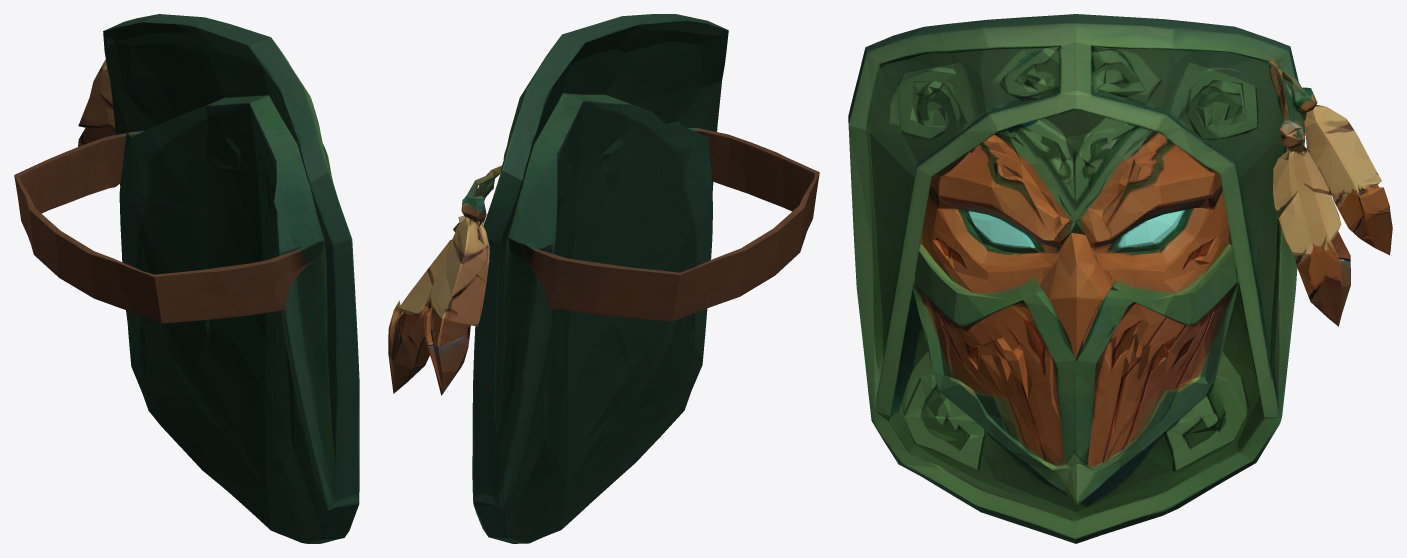
The model's file is Mask_Shooter.glb.
3 views of the same model, side by side, from view 1: azimuth 30°, elevation 25°; view 2: azimuth 150°, elevation 25°; view 3: azimuth 270°, elevation 25° (orthographic). The views are drawn at different scales.
Parts seen in each view (by area): view 1: tripo_node_1df13e3c-3604-43db-bb80-7fb626b5b87b; view 2: tripo_node_1df13e3c-3604-43db-bb80-7fb626b5b87b; view 3: tripo_node_1df13e3c-3604-43db-bb80-7fb626b5b87b.
Part boxes in pixels (x1,y1,x2,y2): tripo_node_1df13e3c-3604-43db-bb80-7fb626b5b87b: [14, 14, 359, 543]; tripo_node_1df13e3c-3604-43db-bb80-7fb626b5b87b: [388, 14, 819, 543]; tripo_node_1df13e3c-3604-43db-bb80-7fb626b5b87b: [848, 14, 1392, 543].
Size of the model in its own units: 0.5683 by 1 by 0.9627.
1 material, 1 textured.
